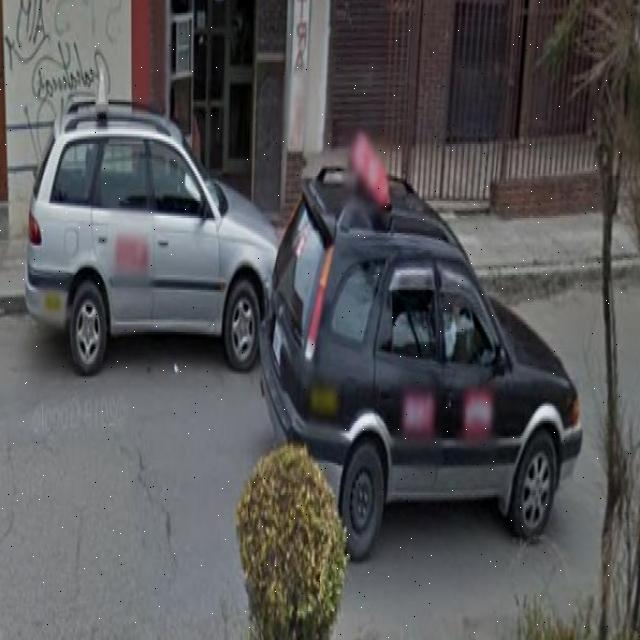car: (266, 161, 578, 584), (28, 100, 264, 364)
